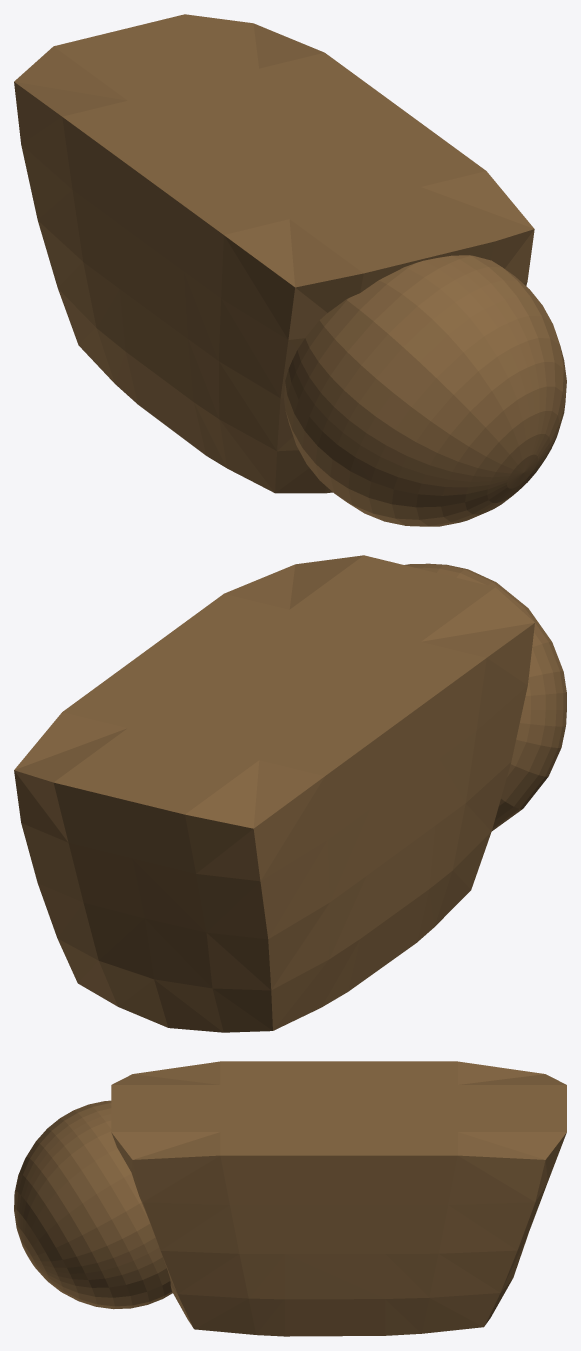
The model's file is LeftFingerJoint12y_joint_visu.dae.
3 views of the same model, one above another, from view 1: azimuth 30°, elevation 25°; view 2: azimuth 150°, elevation 25°; view 3: azimuth 270°, elevation 25° (orthographic). The views are drawn at different scales.
Visible parts, largest first — view 1: node; view 2: node; view 3: node.
Boxes of the visible parts, x1,y1,x2,y2 form: node: (14, 14, 566, 526); node: (14, 555, 566, 1032); node: (14, 1061, 566, 1336).
Size of the model in its own units: 0.00864 by 0.00866 by 0.0214.
